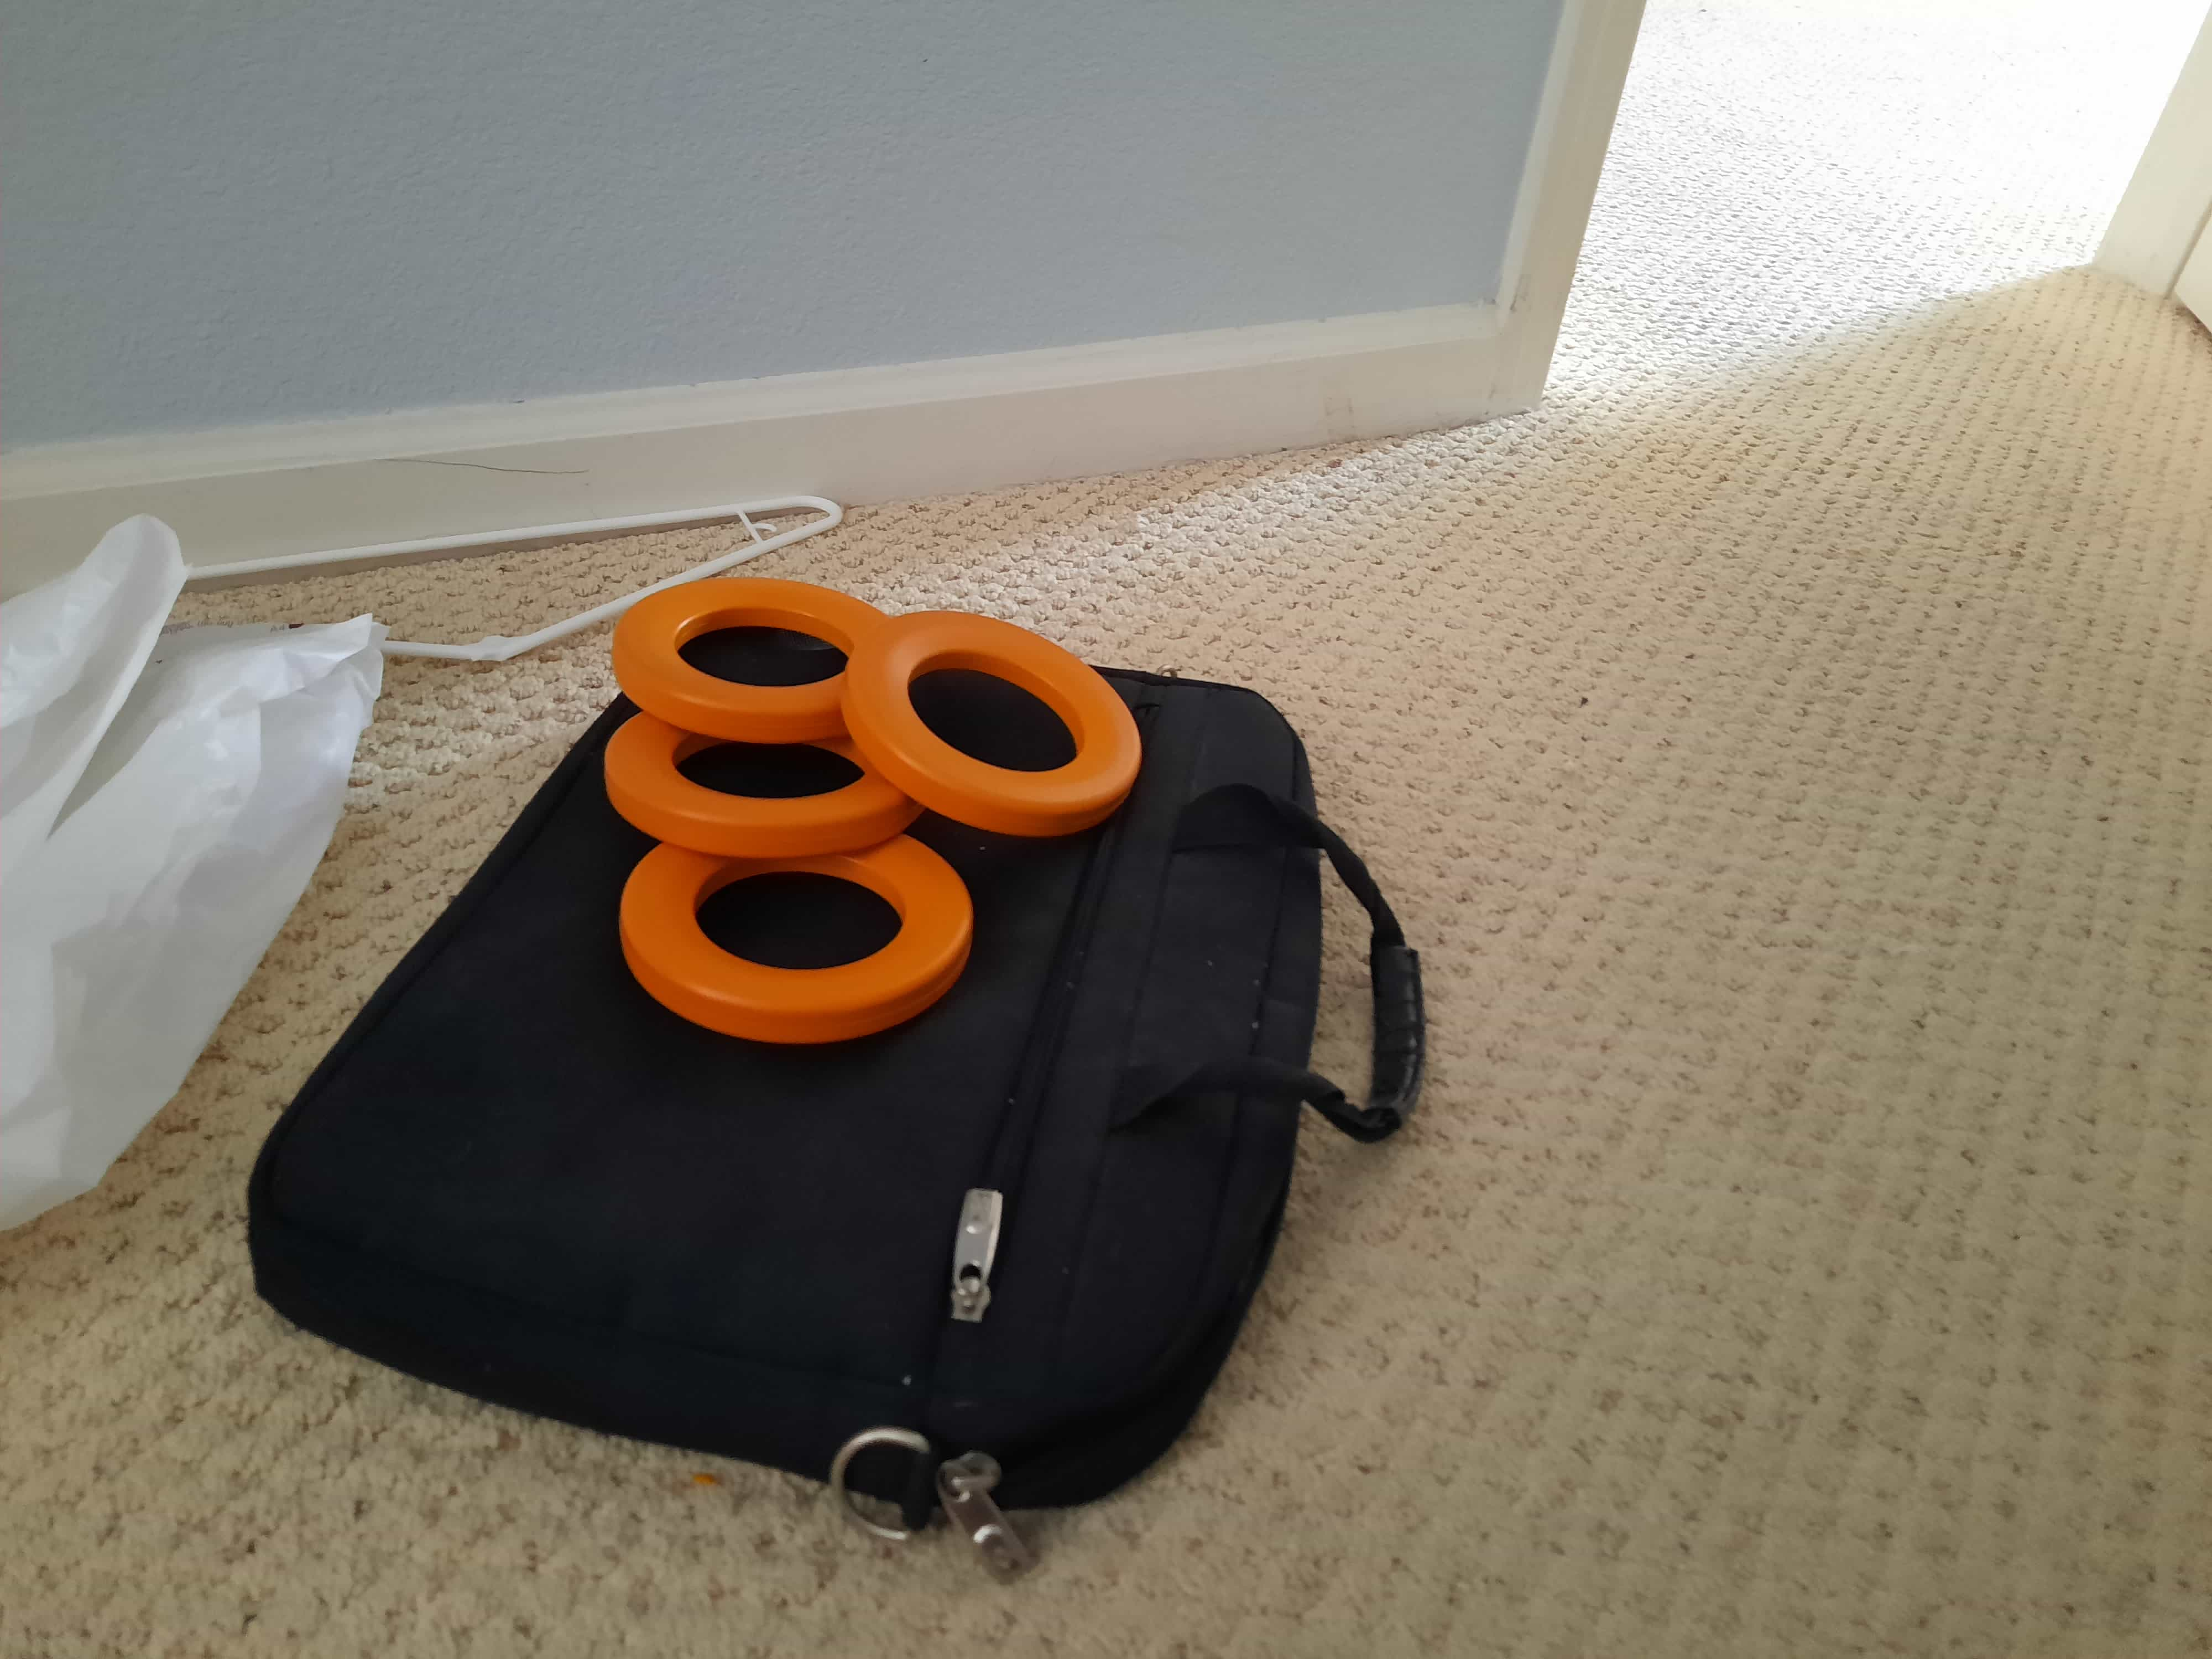OneStack: (613, 838, 979, 1051), (853, 608, 1144, 821), (604, 706, 916, 861), (618, 577, 890, 723)
